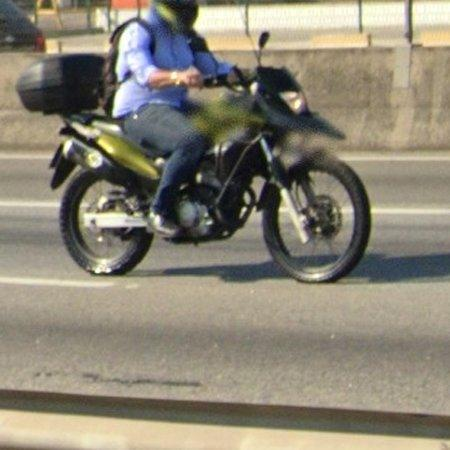motorcycles: (177, 66, 371, 283), (16, 54, 162, 274)
